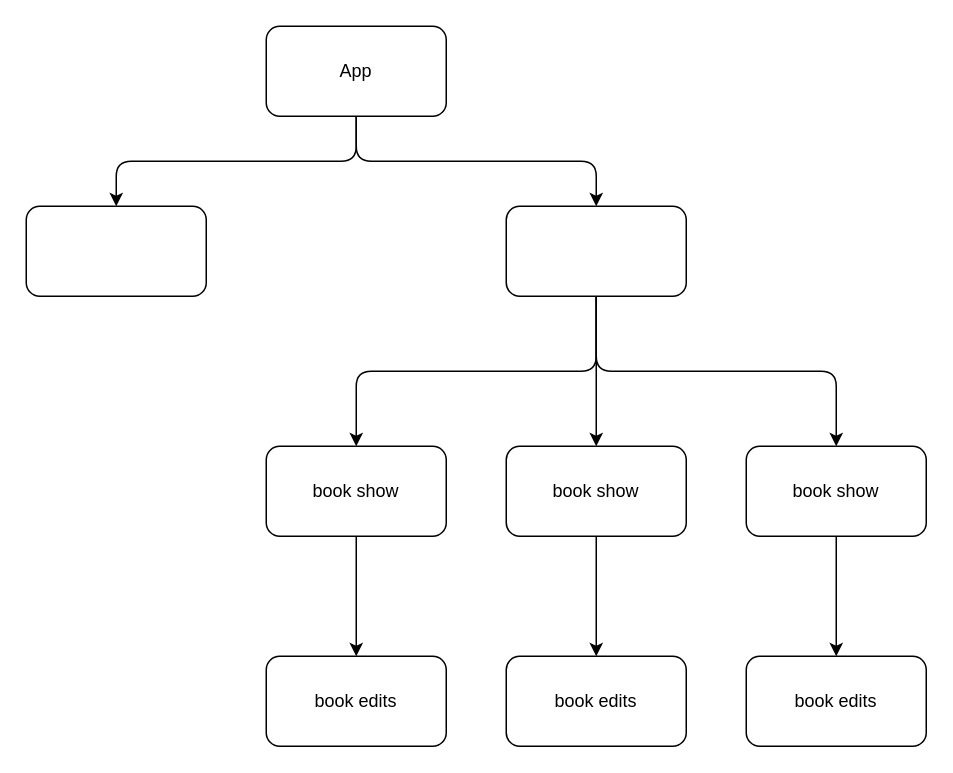
The diagram is 953 pixels wide and 773 high, and some of its shapes have lost their labels. Each missing label, with the box of its shape:
Book List: (505, 205, 686, 296)
Create Book: (25, 205, 206, 296)
